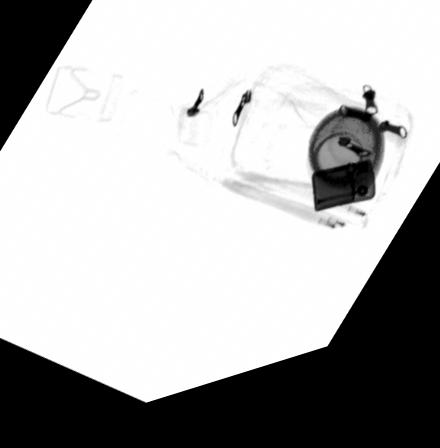Lighter: (310, 181, 375, 232)
